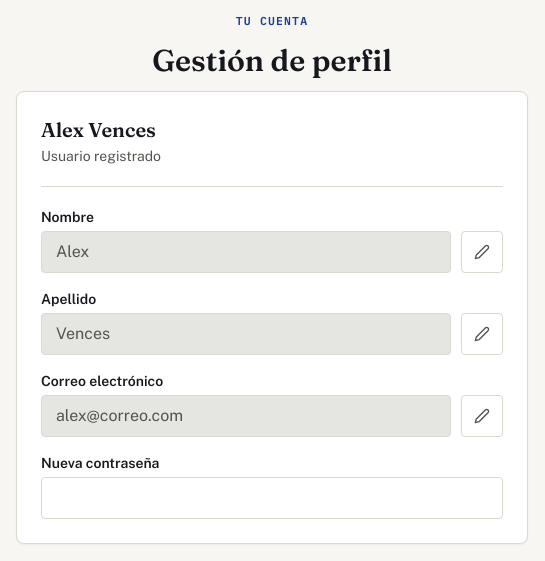
Test: GestionarPerfil › the pencil button unlocks only its own field
Click the button named "Editar nombre" at {"x": 482, "y": 252}, box 461,231 -> 503,273
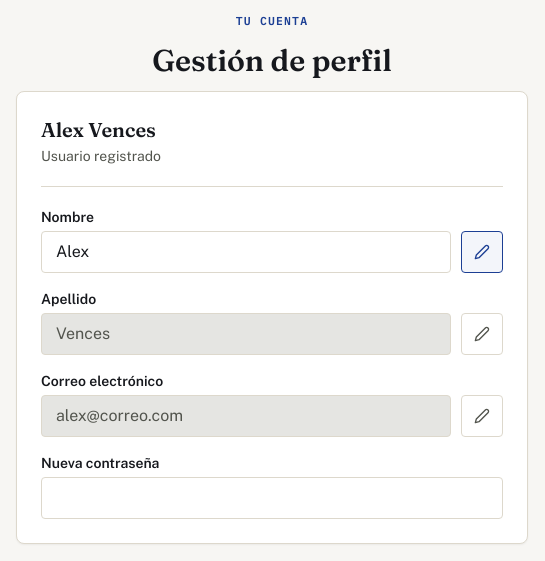
Expected: the field labelled "Apellido" is disabled, 41,313 -> 451,355
Now the field labelled "Nombre" is enabled, box 41,231 -> 451,273
